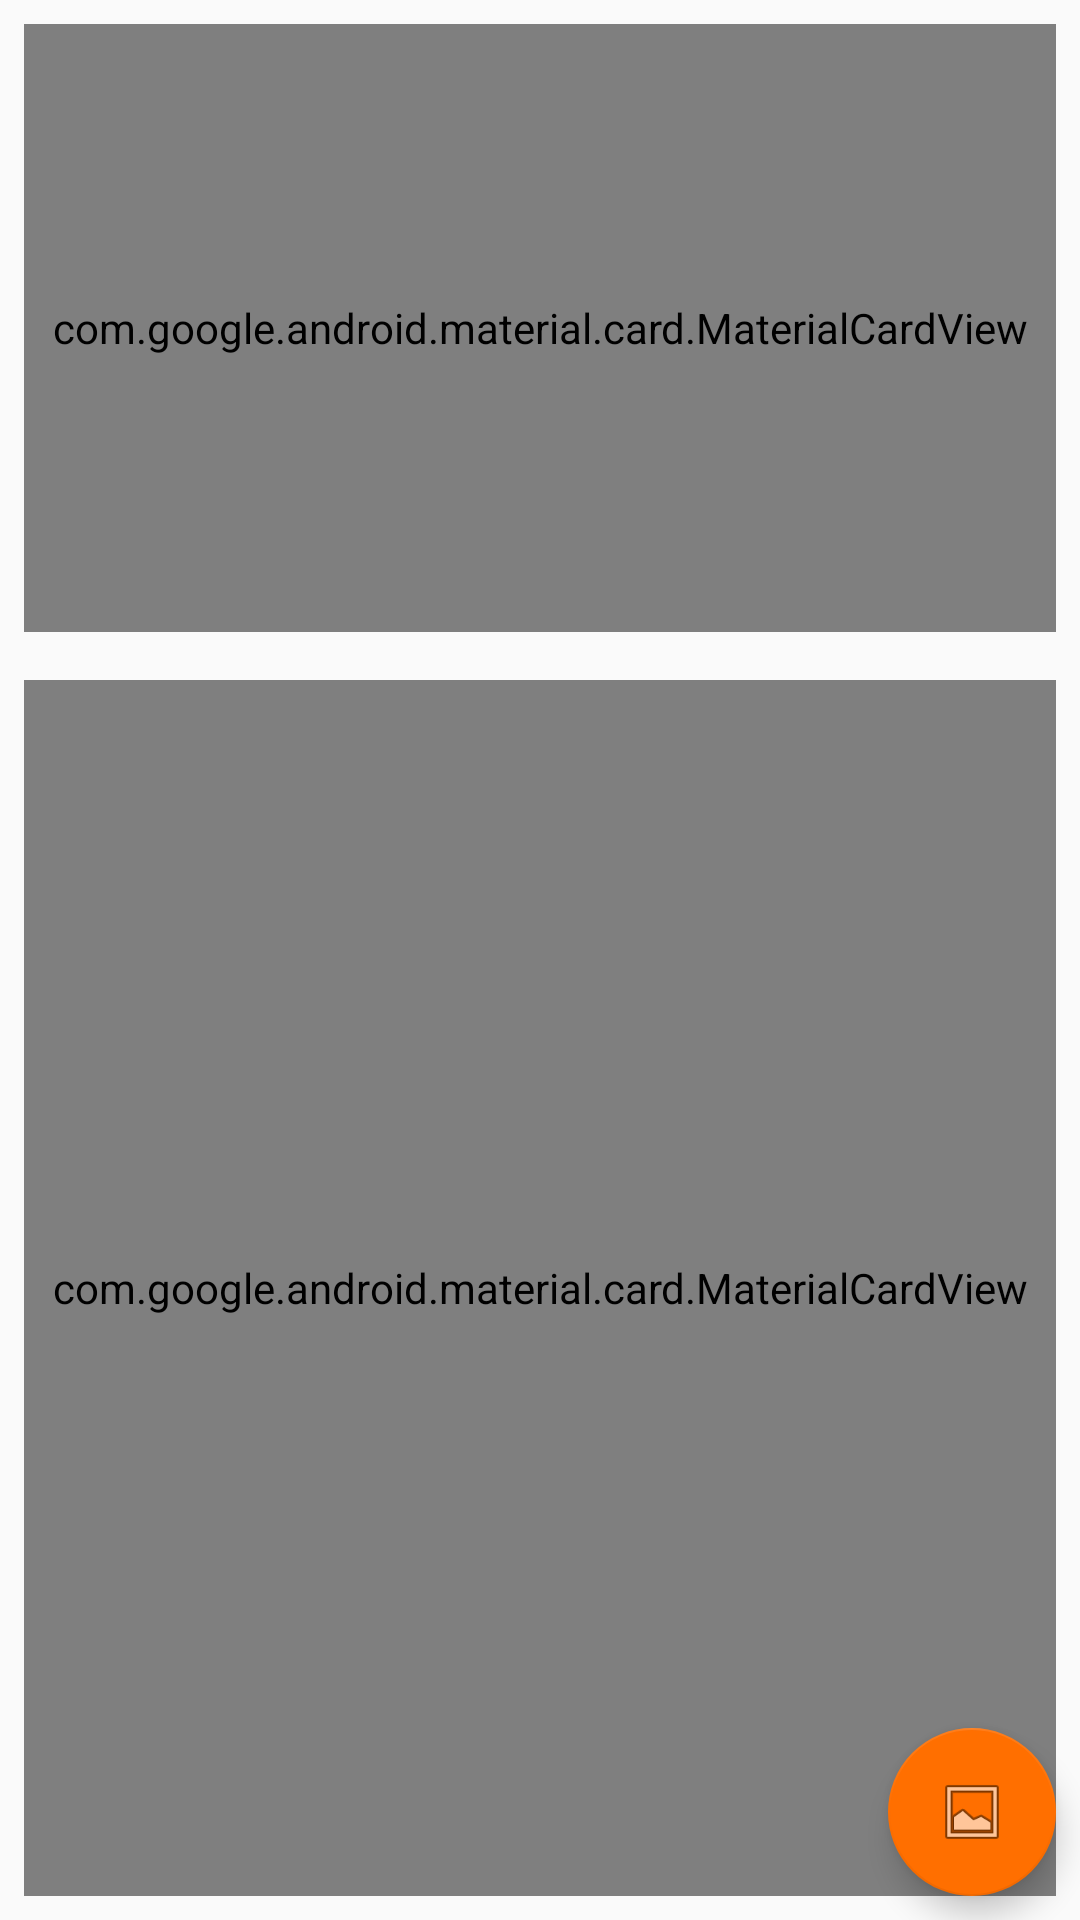

Icons on this 1080px x 1920px Android screen, each with the point to tap as (x,y):
gallery: (972,1812)
